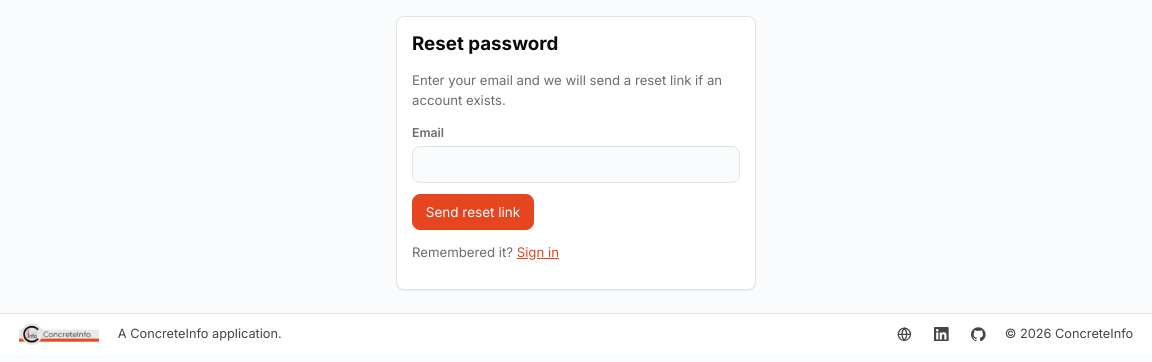
Test: ForgotPasswordPage › shows the same panel for an unknown address
Type "nobody@example.test" into the field labelled "Email" at point(576, 165), box [412,146,740,183]
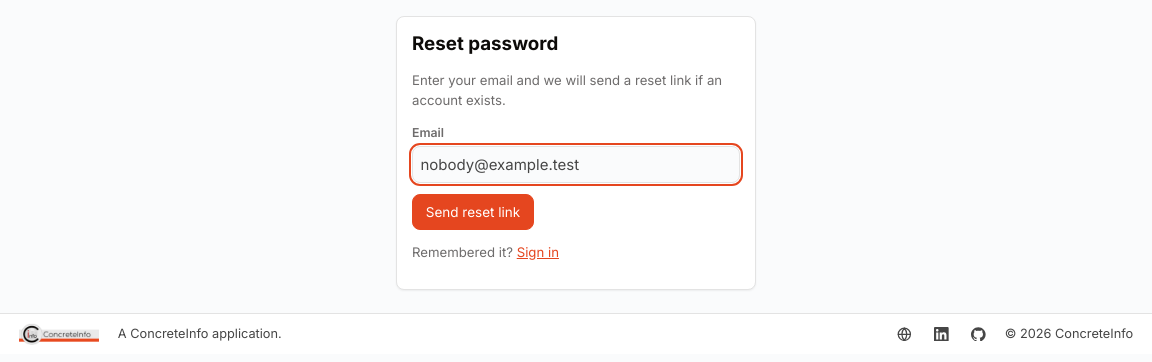
Click the button "Send reset link" at point(473, 212), box [412,194,534,230]
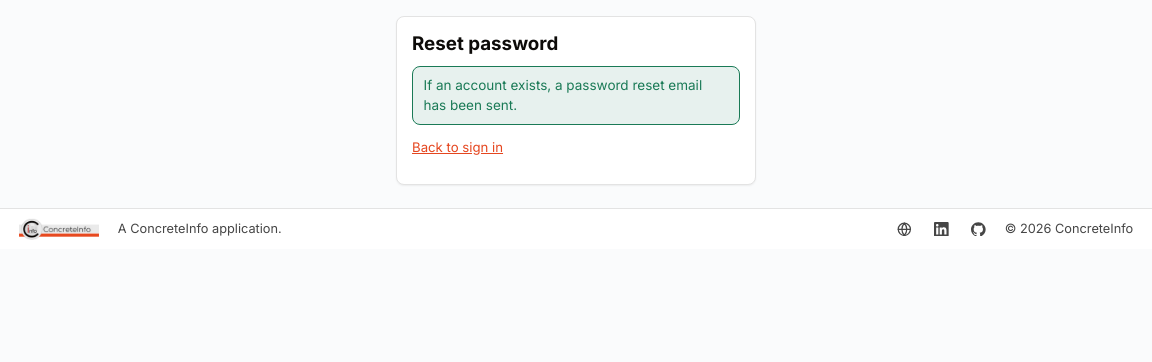
Result: the text "If an account exists, a password reset email has been sent." is shown at [412,66,740,125]
